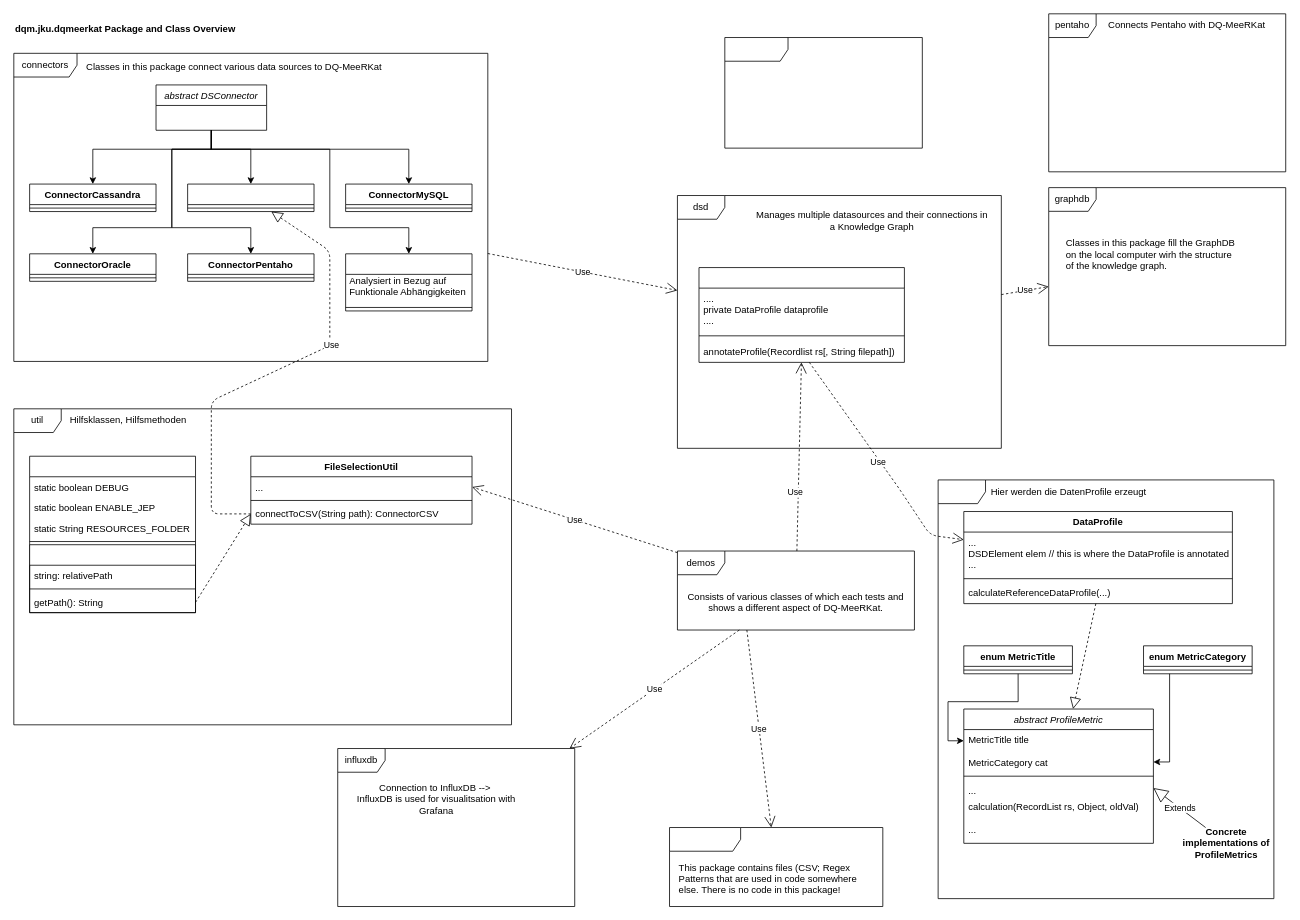
Image size: 1300x920. Some labels were removed from this diagram. Each missing label, with the box of its shape:
abstract DSDElement: (698, 267, 904, 362)
blockchain: (724, 37, 922, 148)
ConnectorCSV: (187, 183, 314, 212)
Constants: (29, 455, 196, 613)
Enum FileName: (29, 544, 196, 613)
FDAnalyzer: (345, 253, 472, 311)
quality: (937, 479, 1274, 899)
ressources: (669, 827, 883, 907)
